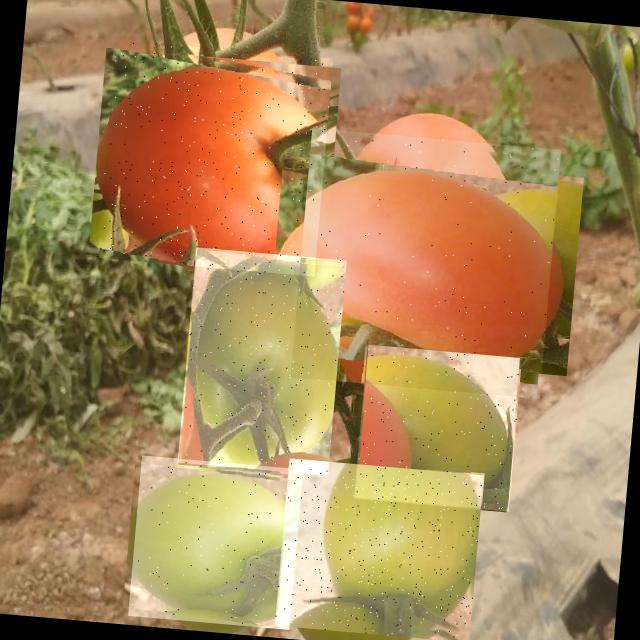Ripe Tomato: (290, 128, 561, 398), (96, 39, 332, 276)
Unripe Tomato: (177, 247, 346, 475), (274, 458, 483, 640), (128, 455, 302, 629), (354, 344, 522, 511)
